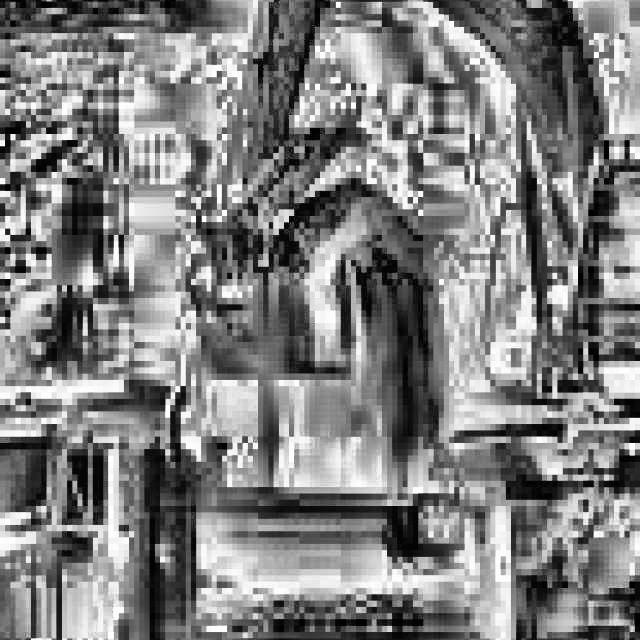dump_truck: (0, 380, 521, 640)
